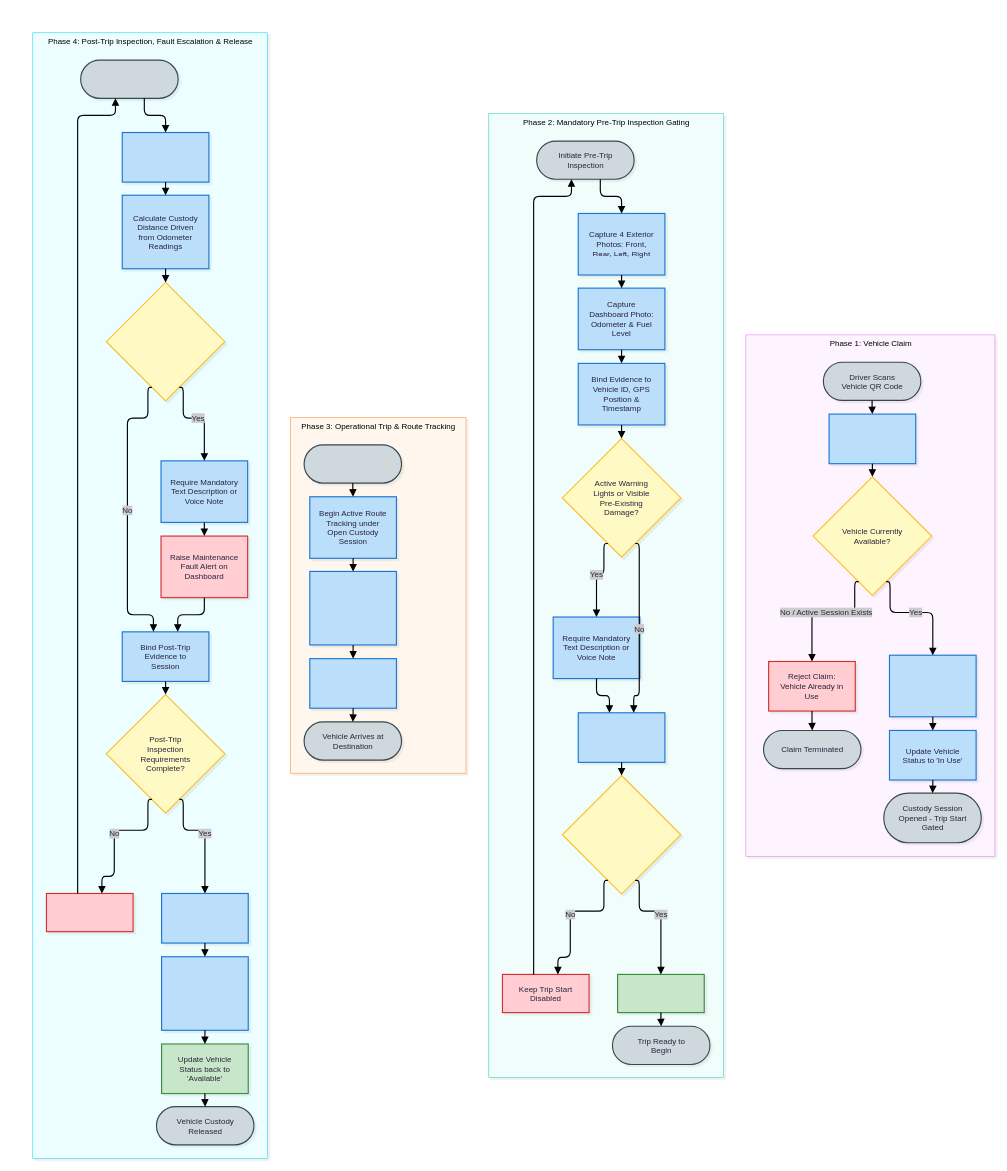
The diagram is 1007 pixels wide and 1171 high, and some of its shapes have lost their labels. Each missing label, with the centre of its shape:
"All Mandatory Photos & Explanations Present?" belongs at [622,836].
"Block Vehicle Release Action" belongs at [91,913].
"Buffer Route Points Locally if Network Offline" belongs at [354,684].
"Capture Mandatory Final Odometer Photo" belongs at [166,158].
"Confirm Pre-Trip Inspection Answers" belongs at [622,738].
"Create Vehicle Session: Driver ID, Vehicle ID, Start Timestamp" belongs at [934,686].
"Driver Initiates Vehicle Release" belongs at [130,80].
"Driver Starts Trip" belongs at [353,465].
"Enable Trip Start Action" belongs at [662,994].
"Mechanical Issues, Unusual Noises, or Accidents Occurred?" belongs at [166,343].
"Record Operational Route Coordinates & Distance" belongs at [354,609].
"Resolve Vehicle Identifier from QR Code Data" belongs at [873,439].
"Stop Route Tracking & Close Vehicle Session" belongs at [206,919].
"Store Summary: Origin, Route, Destination, Total Distance & Duration" belongs at [206,994].
